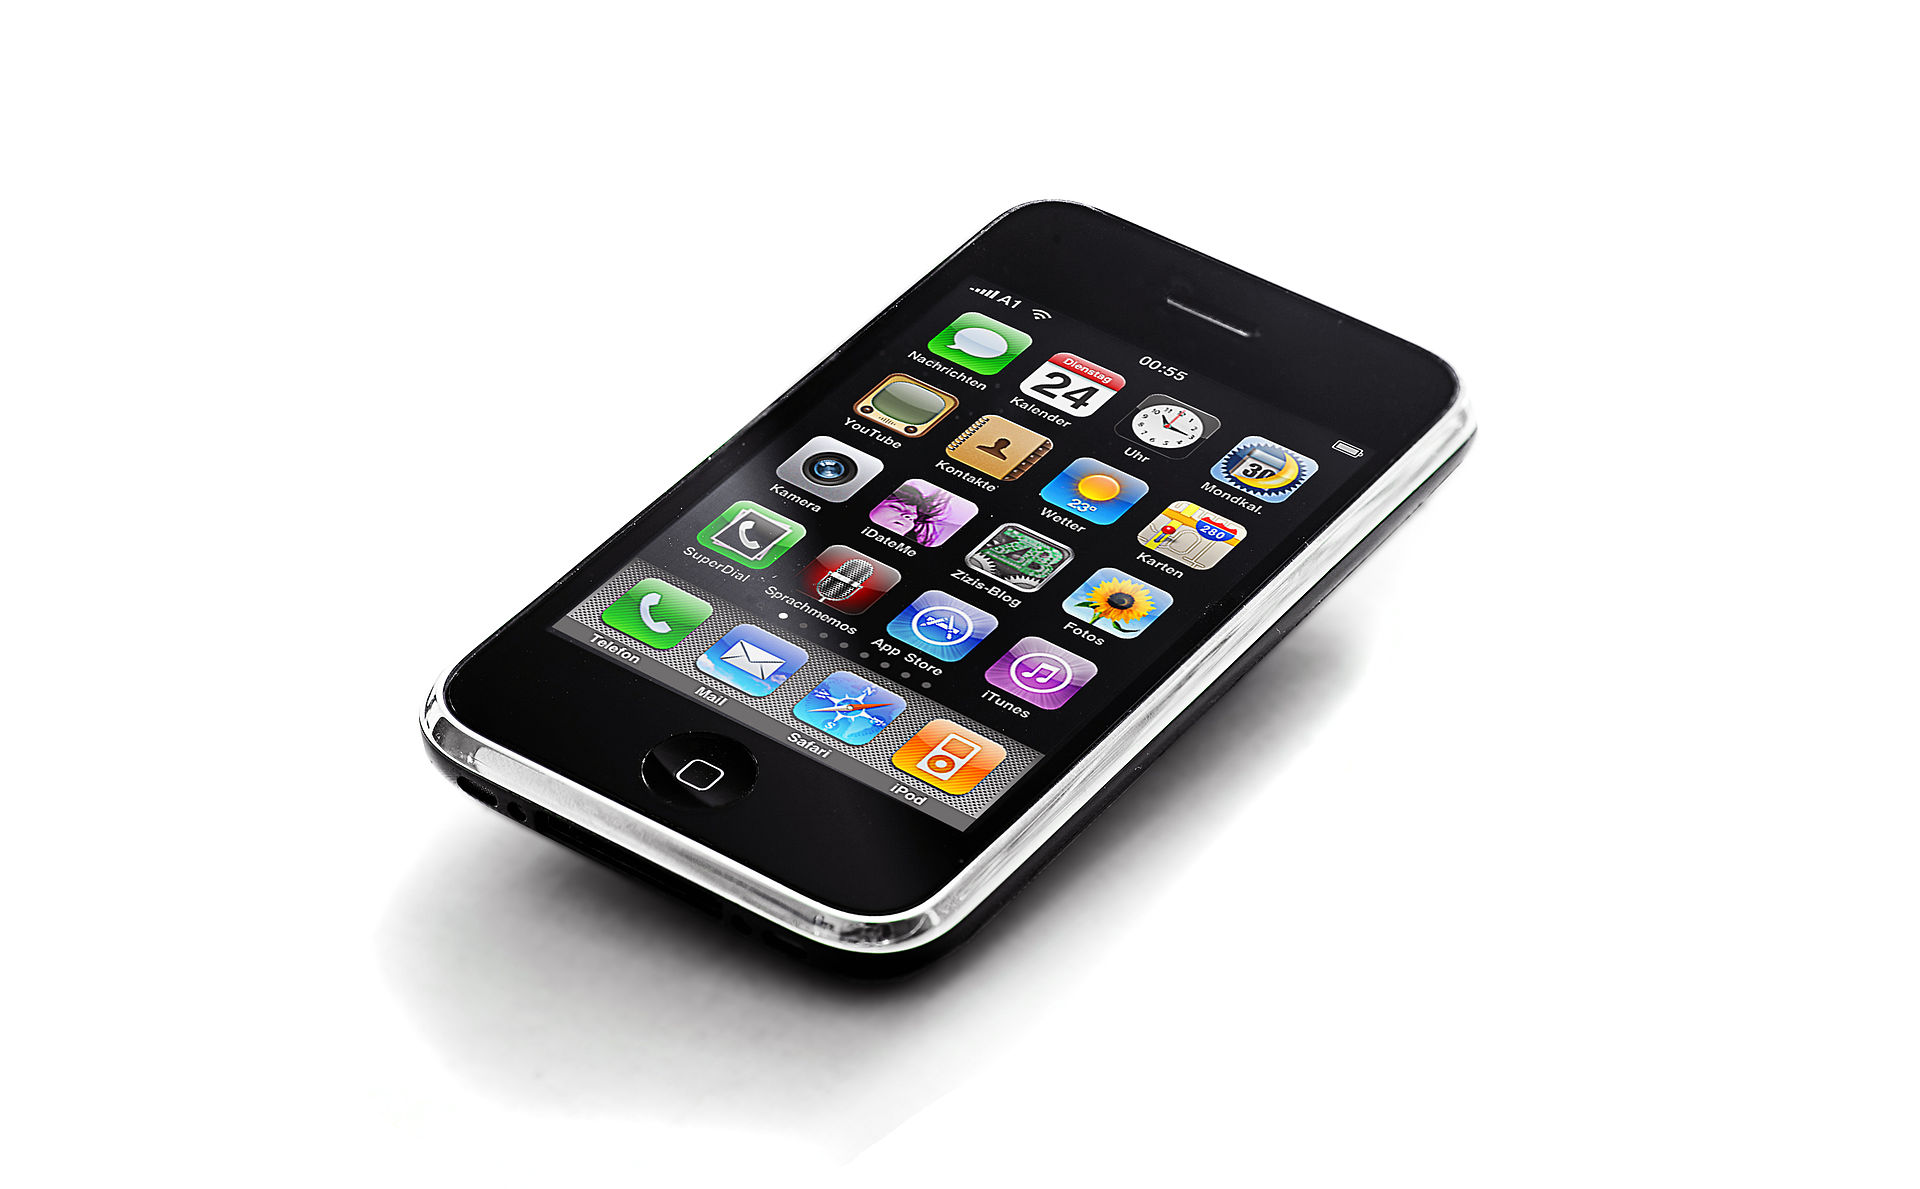smartphone: (417, 196, 1478, 994)
